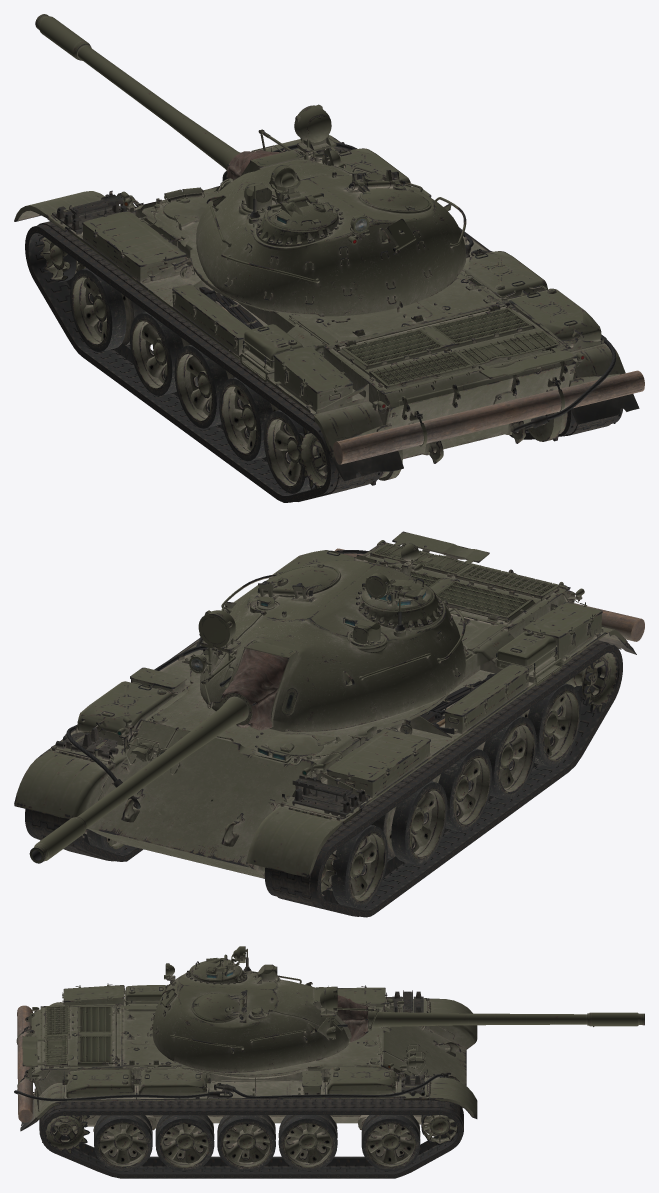
3 views of the same model, one above another, from view 1: azimuth 30°, elevation 25°; view 2: azimuth 150°, elevation 25°; view 3: azimuth 270°, elevation 25° (orthographic). The views are drawn at different scales.
Parts seen in each view (by area): view 1: hull_0, turret_0, chassis_2, chassis_1, gun_0, chassis_0; view 2: hull_0, turret_0, chassis_2, chassis_1, gun_0, chassis_0; view 3: hull_0, turret_0, chassis_3, chassis_0, gun_0.
Boxes of the visible parts, x1=… form: hull_0: x1=14, y1=135, x2=644, y2=485; turret_0: x1=196, y1=148, x2=466, y2=316; chassis_2: x1=38, y1=236, x2=379, y2=494; chassis_1: x1=25, y1=221, x2=381, y2=502; gun_0: x1=35, y1=14, x2=336, y2=180; chassis_0: x1=509, y1=408, x2=622, y2=439; hull_0: x1=14, y1=531, x2=644, y2=878; turret_0: x1=189, y1=543, x2=468, y2=732; chassis_2: x1=321, y1=643, x2=617, y2=908; chassis_1: x1=264, y1=640, x2=622, y2=917; gun_0: x1=29, y1=610, x2=288, y2=863; chassis_0: x1=25, y1=749, x2=143, y2=861; hull_0: x1=14, y1=983, x2=477, y2=1135; turret_0: x1=149, y1=946, x2=351, y2=1073; chassis_3: x1=39, y1=1110, x2=457, y2=1171; chassis_0: x1=39, y1=1098, x2=463, y2=1178; gun_0: x1=320, y1=986, x2=644, y2=1042.
Size of the model in its own units: 1.67 by 1.27 by 4.35.
7 materials, 7 textured.
